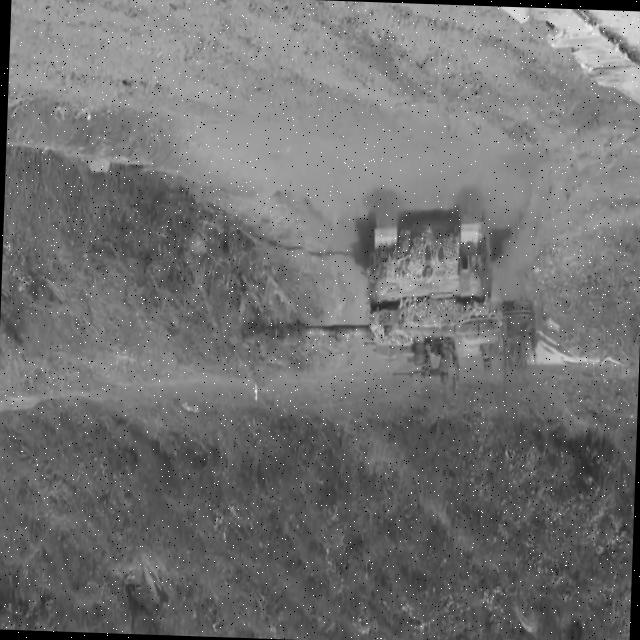korea tank: (243, 179, 542, 390)
